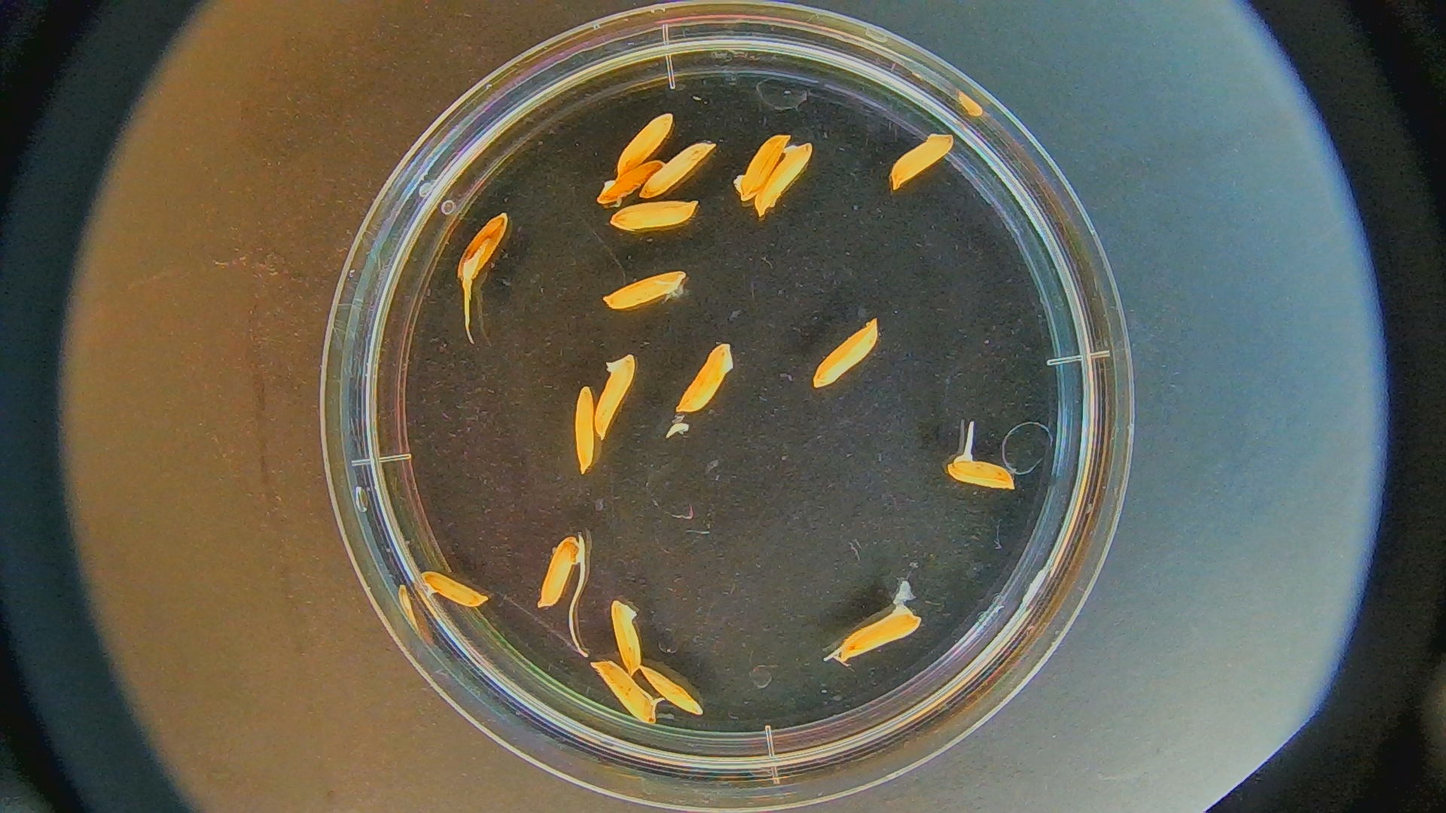no: (673, 340, 737, 417), (834, 607, 916, 666), (815, 318, 880, 388), (641, 142, 715, 201), (754, 143, 813, 214), (888, 134, 955, 192), (592, 352, 636, 440), (599, 269, 687, 313), (736, 134, 789, 201), (618, 113, 671, 173), (643, 665, 703, 717), (595, 160, 661, 207), (417, 569, 490, 610), (611, 200, 694, 235), (608, 601, 645, 673), (574, 385, 597, 473)
yes: (590, 659, 660, 724), (455, 206, 509, 286), (537, 533, 590, 609), (946, 454, 1011, 491)
